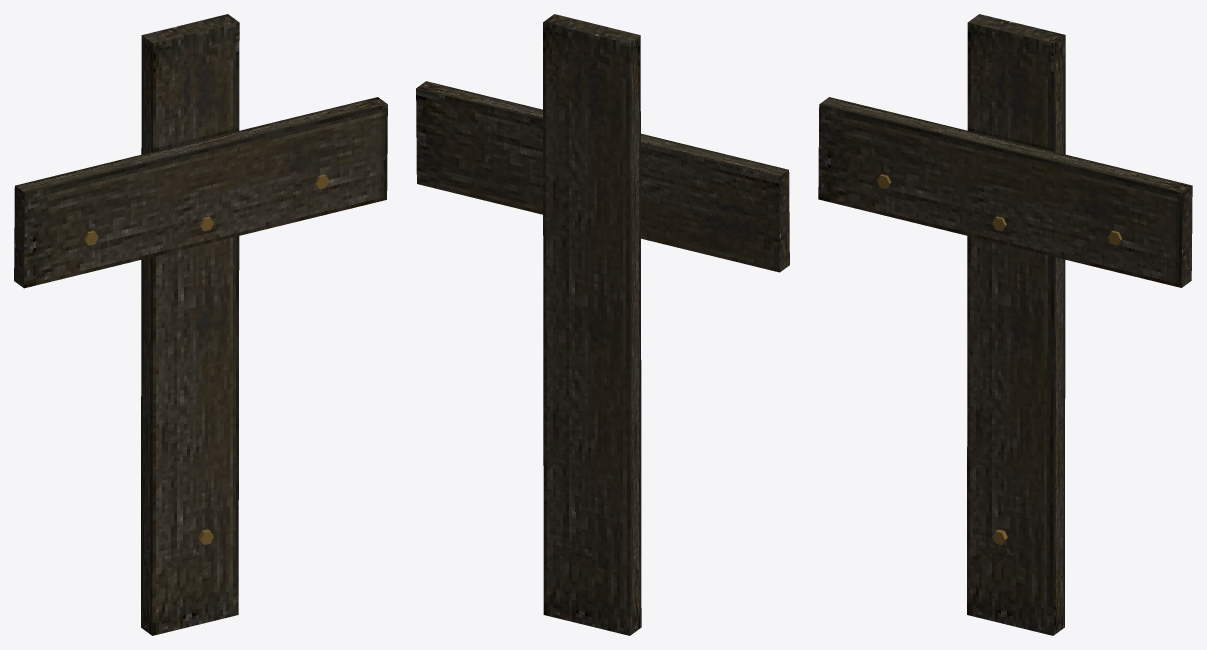
The model's file is blender_crucifix_2.glb.
3 views of the same model, side by side, from view 1: azimuth 30°, elevation 25°; view 2: azimuth 150°, elevation 25°; view 3: azimuth 330°, elevation 25° (orthographic).
Visible parts, largest first — view 1: blender_crucifix_2; view 2: blender_crucifix_2; view 3: blender_crucifix_2.
Part boxes in pixels (box(x1,y1,x2,y2)): blender_crucifix_2: box(14, 14, 387, 635); blender_crucifix_2: box(416, 14, 789, 635); blender_crucifix_2: box(818, 14, 1192, 635).
Bounding box in the file's own units: 0.18 × 0.28 × 0.02.
2 materials, 2 textured.
